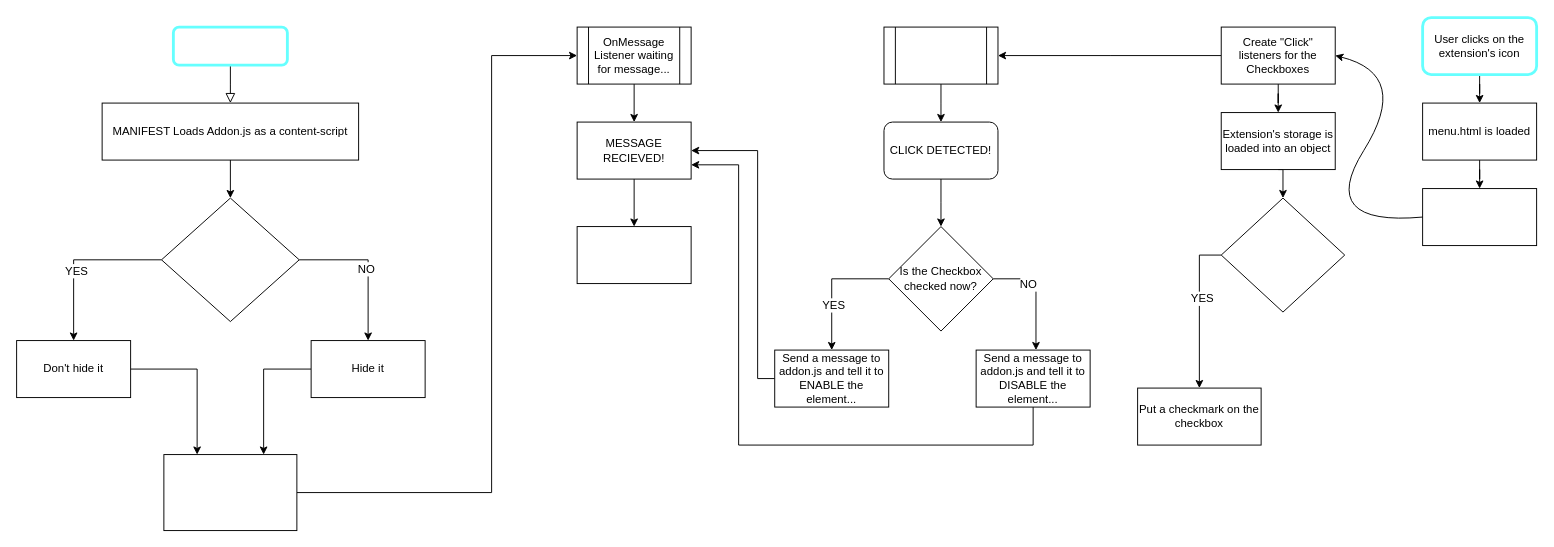
Some shapes in this 1554 by 547 pixel diagram are drawn without their labels. Here are the shapes that lost their labels. From the top down, the centre of each, then its label:
point (229, 45): *://aminoapps.com/c/* is loaded
point (940, 55): Click listener waiting for click...
point (1479, 217): Menu.html imports style.css and launches checkBoxes.js
point (230, 259): Is x element allowed by the user in the configuration?
point (633, 255): Execute the corresponding command
point (1282, 254): Was this checkbox selected before?
point (230, 492): Add an "onMessage" listener (To change appearence on-demand)
